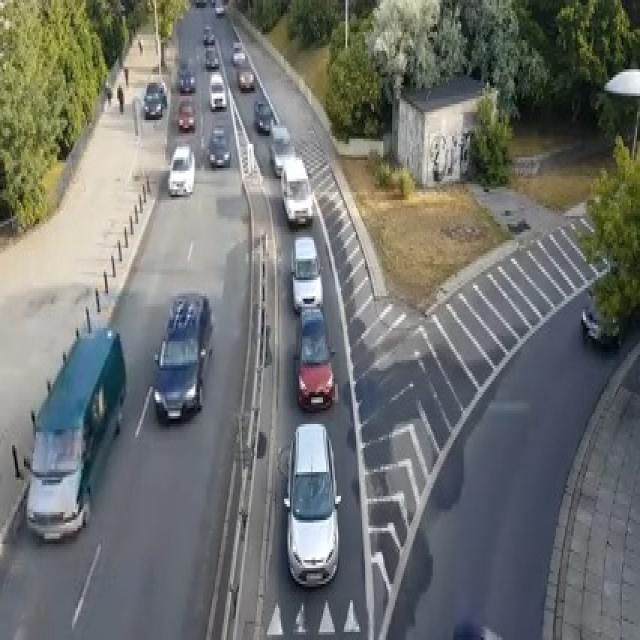bus: (24, 323, 126, 541)
car: (279, 421, 341, 587), (152, 291, 213, 424), (293, 306, 335, 411), (290, 235, 323, 312), (280, 154, 312, 227), (580, 301, 622, 347), (167, 144, 195, 195), (269, 123, 294, 176), (207, 125, 230, 168), (142, 80, 164, 117), (209, 72, 227, 109), (254, 99, 272, 133), (178, 98, 195, 130), (178, 62, 195, 94), (237, 66, 254, 90), (204, 46, 220, 70), (231, 40, 245, 64), (158, 80, 167, 107), (203, 24, 213, 43), (215, 0, 224, 13), (195, 0, 205, 5)
